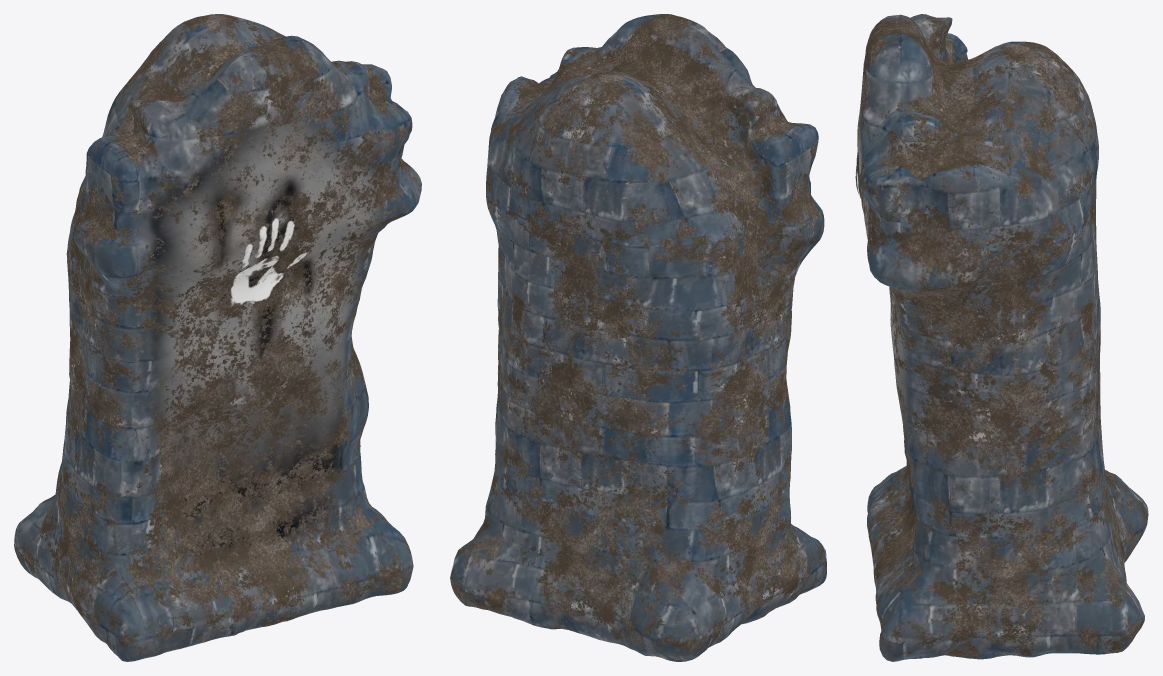
The model's file is tumba-magica-transformed.glb.
The picture shows the model from 3 angles, left to right: view 1: azimuth 30°, elevation 25°; view 2: azimuth 150°, elevation 25°; view 3: azimuth 270°, elevation 25°; orthographic projection. The views are drawn at different scales.
Visible parts, largest first — view 1: mesh_Material _25_0; view 2: mesh_Material _25_0; view 3: mesh_Material _25_0.
Part boxes in pixels (x1,y1,x2,y2): mesh_Material _25_0: [14, 14, 421, 661]; mesh_Material _25_0: [450, 14, 826, 661]; mesh_Material _25_0: [855, 14, 1148, 661].
Bounding box in the file's own units: 1.3 × 2.26 × 1.01.
1 material, 1 textured.
